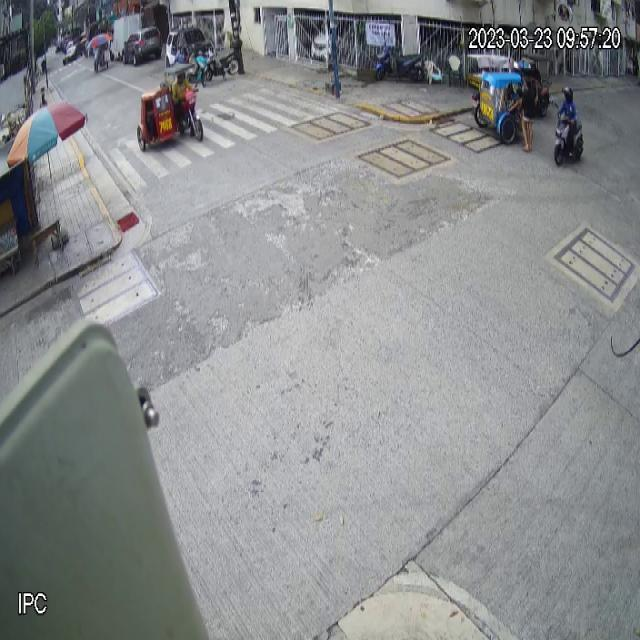Motorcycle: (552, 100, 585, 170)
Tricycle: (464, 51, 530, 145), (137, 64, 204, 154)
